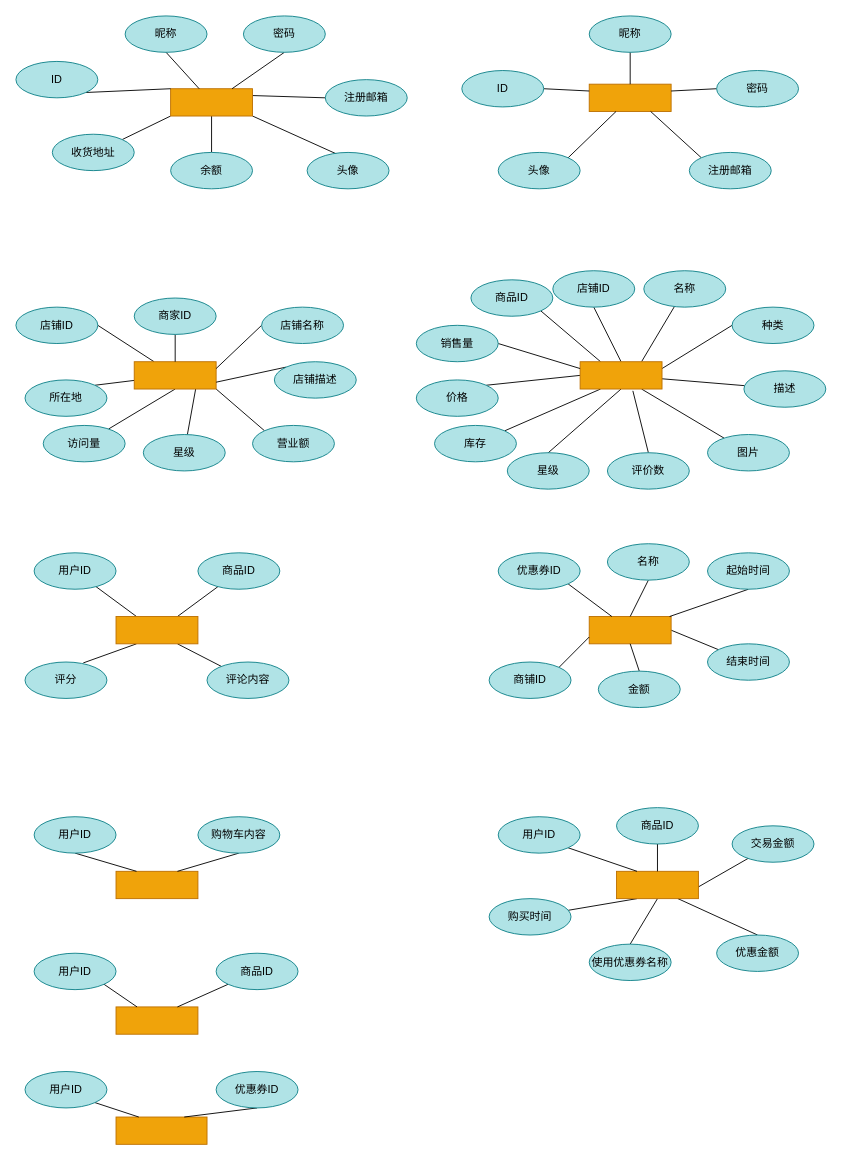
The diagram is 842 pixels wide and 1160 high, and some of its shapes have lost their labels. Each missing label, with the centre of its shape:
"CUSTOMER" goes at [211,102].
"优惠券" goes at [629,630].
"商品" goes at [620,375].
"商家" goes at [629,97].
"店铺" goes at [174,375].
"收藏" goes at [156,1020].
"用户剩余优惠券" goes at [161,1130].
"评论" goes at [156,630].
"购买记录" goes at [657,884].
"购物车" goes at [156,884].
